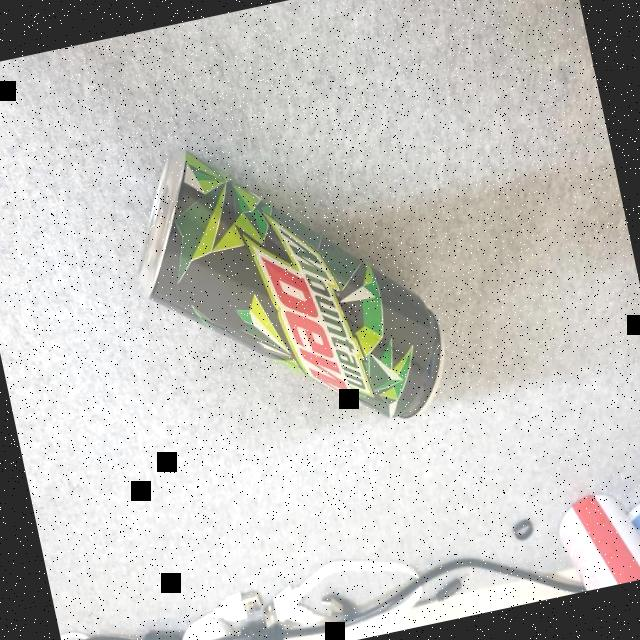can: (114, 100, 459, 472)
